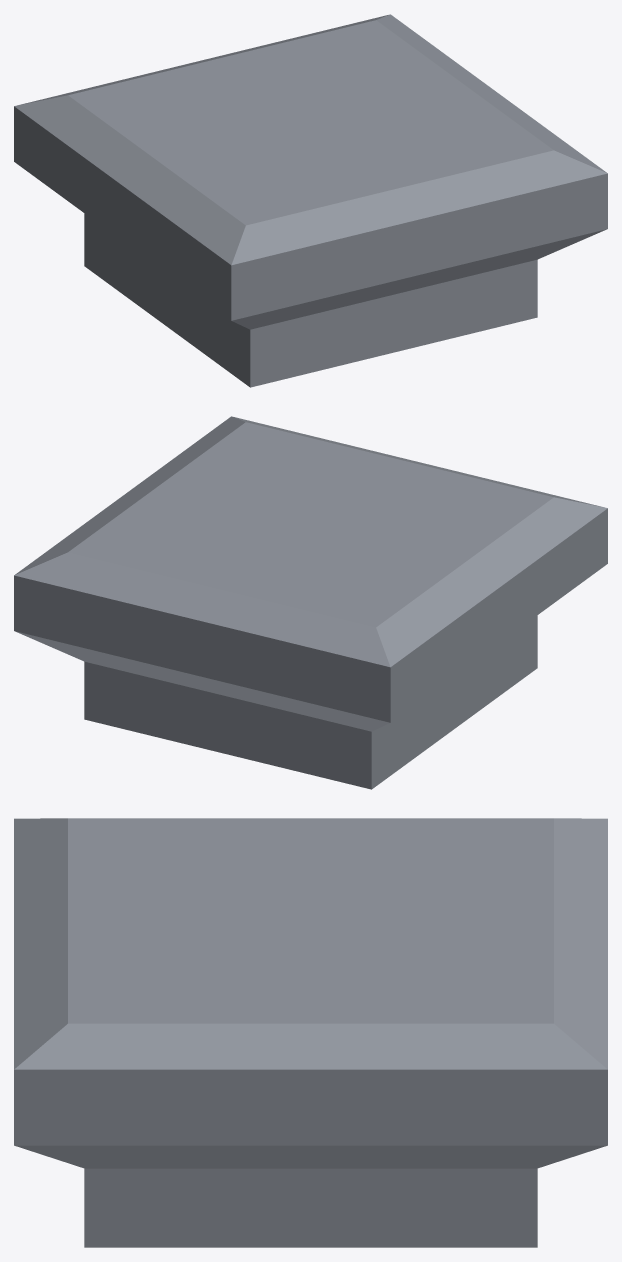
Rendered from SM_Prop_Airvent_02.fbx.
The picture shows the model from 3 angles, top to bottom: view 1: azimuth 30°, elevation 25°; view 2: azimuth 150°, elevation 25°; view 3: azimuth 270°, elevation 25°; orthographic projection. The views are drawn at different scales.
Visible parts, largest first — view 1: SM_Prop_Airvent_02; view 2: SM_Prop_Airvent_02; view 3: SM_Prop_Airvent_02.
Part boxes in pixels (x1,y1,x2,y2): SM_Prop_Airvent_02: (14, 14, 607, 387); SM_Prop_Airvent_02: (14, 416, 607, 789); SM_Prop_Airvent_02: (14, 818, 607, 1247).
Size of the model in its own units: 131 by 56.25 by 131.
